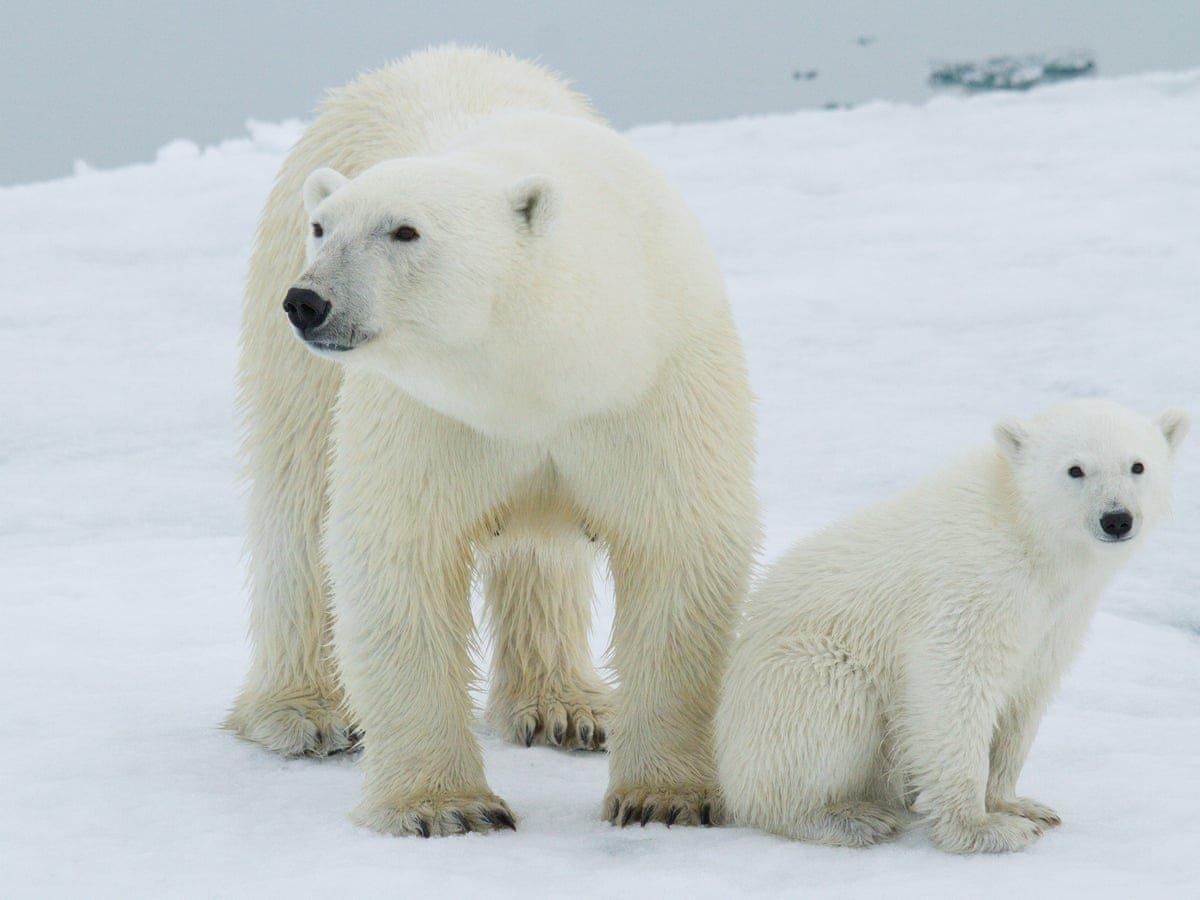bear: (233, 39, 764, 838), (710, 398, 1191, 849)
